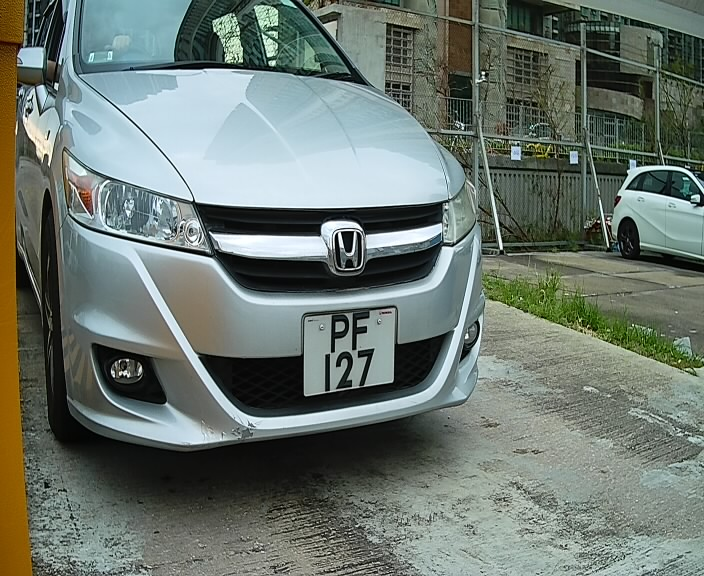License Plate: (292, 296, 406, 402)
